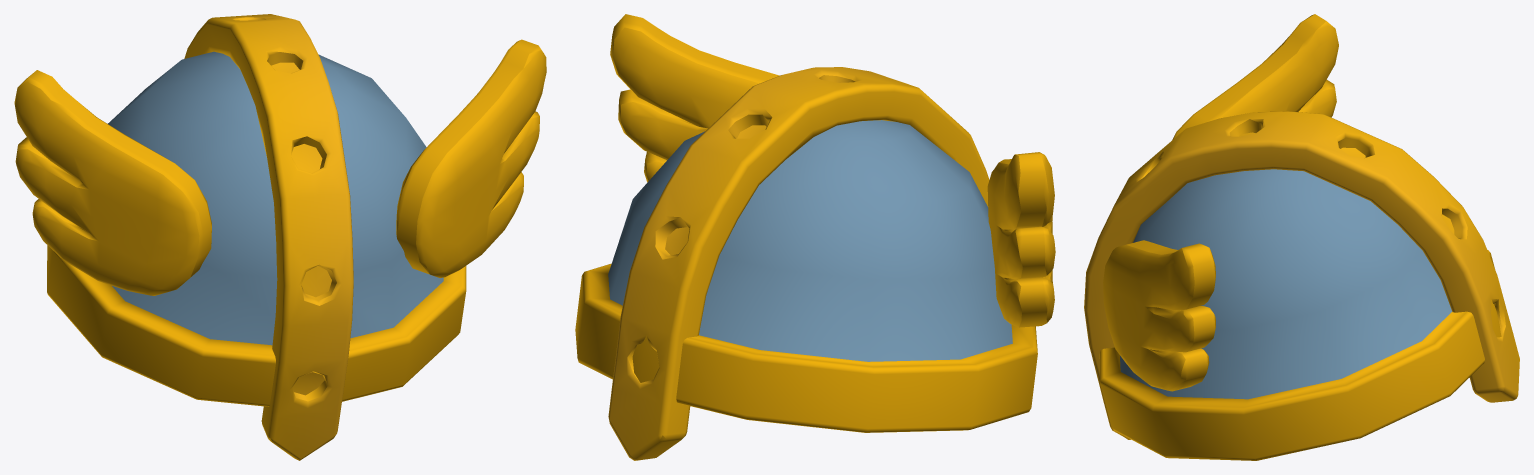
3 views of the same model, side by side, from view 1: azimuth 30°, elevation 25°; view 2: azimuth 150°, elevation 25°; view 3: azimuth 270°, elevation 25° (orthographic). The views are drawn at different scales.
Parts seen in each view (by area): view 1: model_1.036; view 2: model_1.036; view 3: model_1.036.
Boxes of the visible parts, bbox=[...] form: model_1.036: bbox=[14, 14, 546, 460]; model_1.036: bbox=[575, 14, 1055, 460]; model_1.036: bbox=[1084, 14, 1519, 460].
Size of the model in its own units: 4.95 by 3.62 by 4.17.
